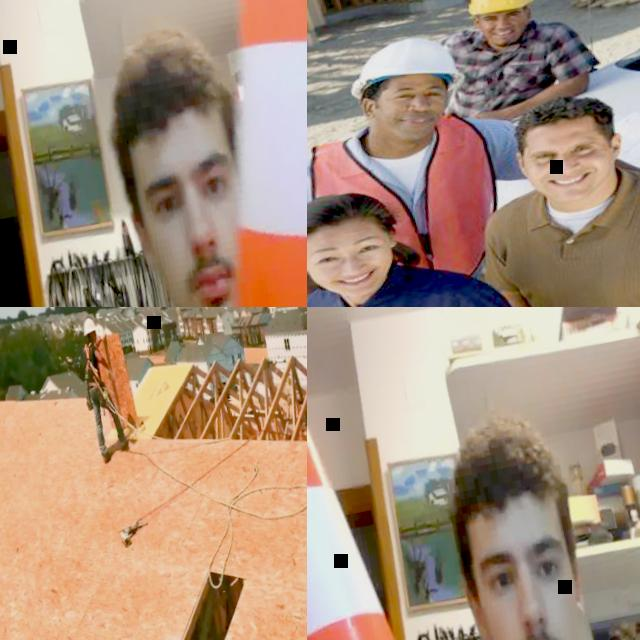Hardhat: (345, 26, 470, 111), (460, 0, 541, 18), (82, 317, 99, 338)
NO-Hardhat: (101, 28, 238, 158), (442, 410, 567, 542), (500, 92, 616, 144), (307, 186, 393, 244)
NO-Mask: (172, 244, 251, 307), (365, 102, 445, 154), (318, 255, 396, 307), (533, 159, 612, 208), (477, 19, 533, 51), (92, 335, 98, 343)
NO-Safety Vest: (482, 173, 640, 307), (441, 17, 571, 128), (81, 342, 103, 385)
Person: (307, 384, 640, 640), (33, 16, 307, 307), (307, 15, 550, 307), (444, 68, 640, 307), (307, 159, 579, 307), (422, 0, 607, 131), (74, 316, 134, 466)
Safety Cone: (88, 0, 307, 307), (307, 349, 519, 640)
Safety Vest: (307, 111, 511, 301)
vehicle: (426, 0, 640, 307)
